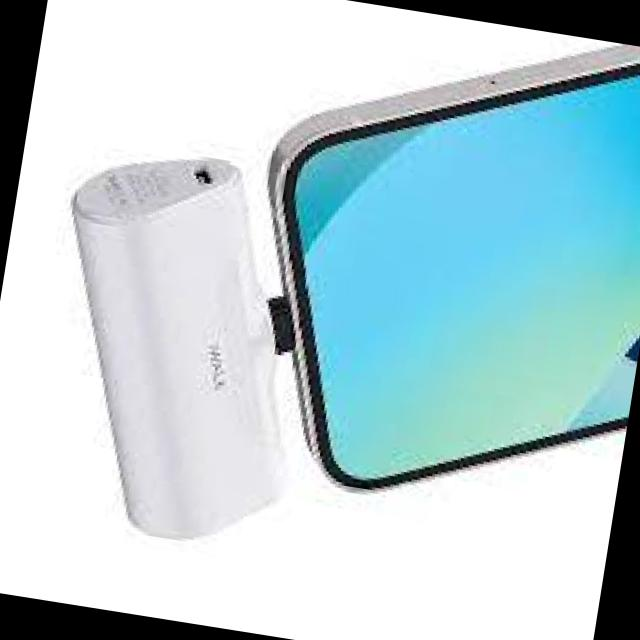portable-charger: (19, 129, 334, 561)
